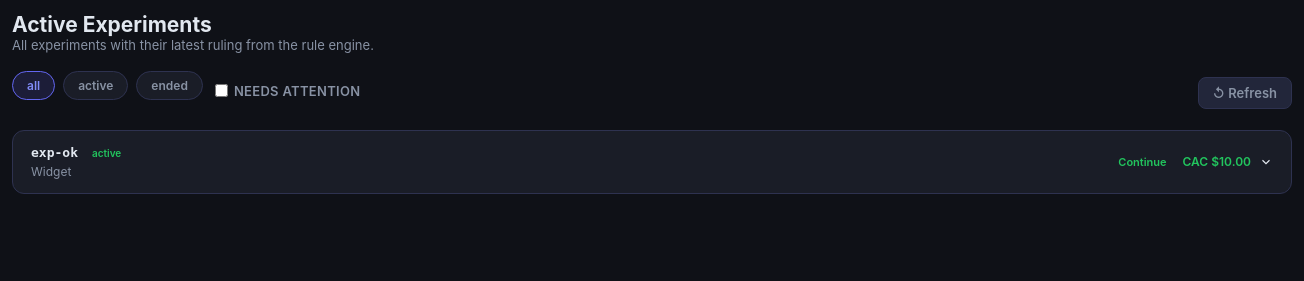
Test: ActiveExperiments lifecycle wiring › does not show scale ruling in attention filter when only continue experiments exist
Click the checkbox labelled "Needs attention".
click(221, 90)  # box x1=215 y1=84 x2=228 y2=97
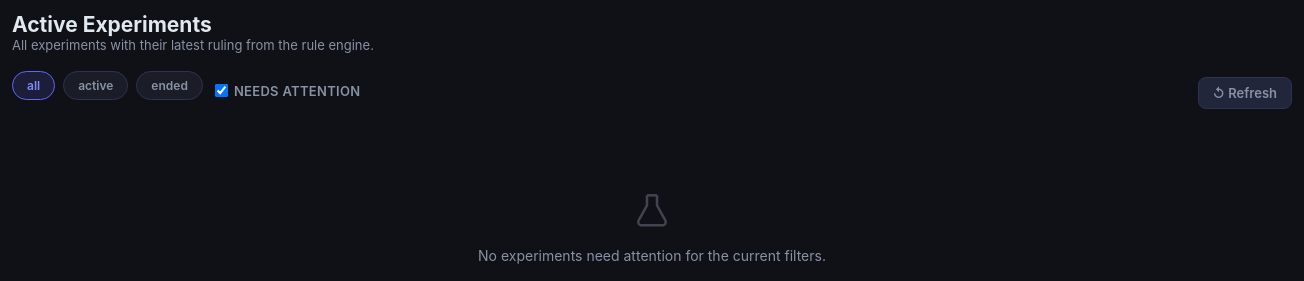
Result: the text "No experiments need attention for the current filters." is shown at x1=478 y1=246 x2=826 y2=264
